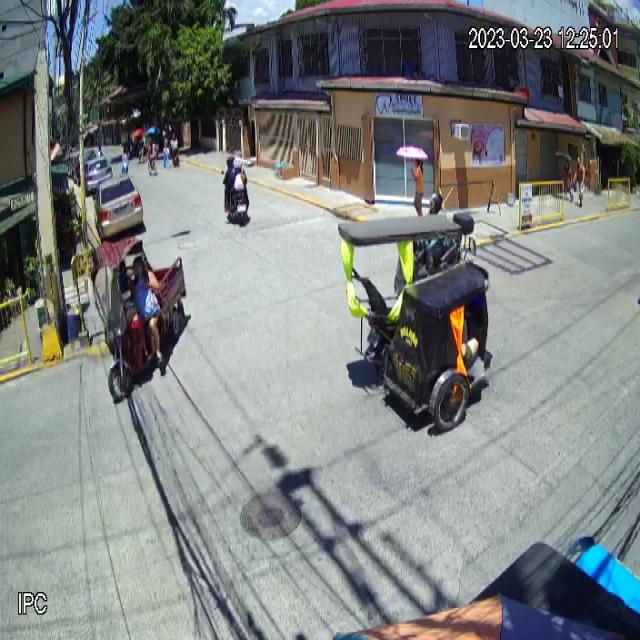Tricycle: (338, 212, 493, 433)
